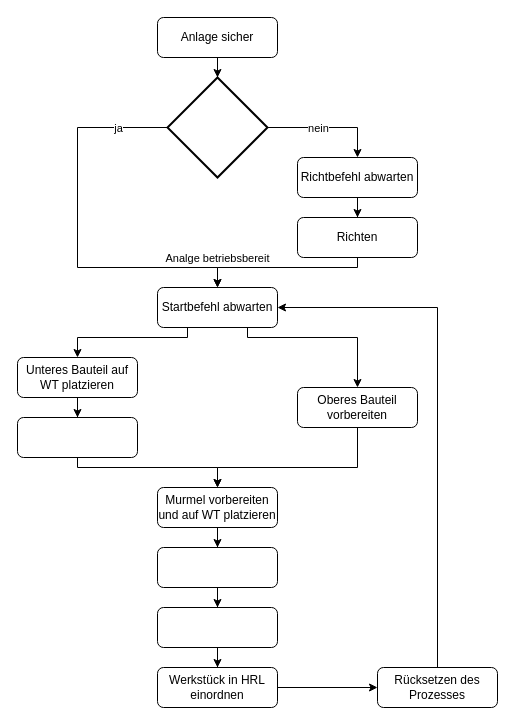
The diagram is 515 pixels wide and 725 high, and some of its shapes have lost their labels. The shapes that lost their labels are listed below. From the top down, each one's centre as x and y in pixels, then its label:
point (217, 127): Anlage gerichtet?
point (77, 437): WT auf Position "Hochzeit" fahren
point (217, 567): Oberes Bauteil auf WT platzieren
point (217, 627): WT auf Position "HRL" fahren
